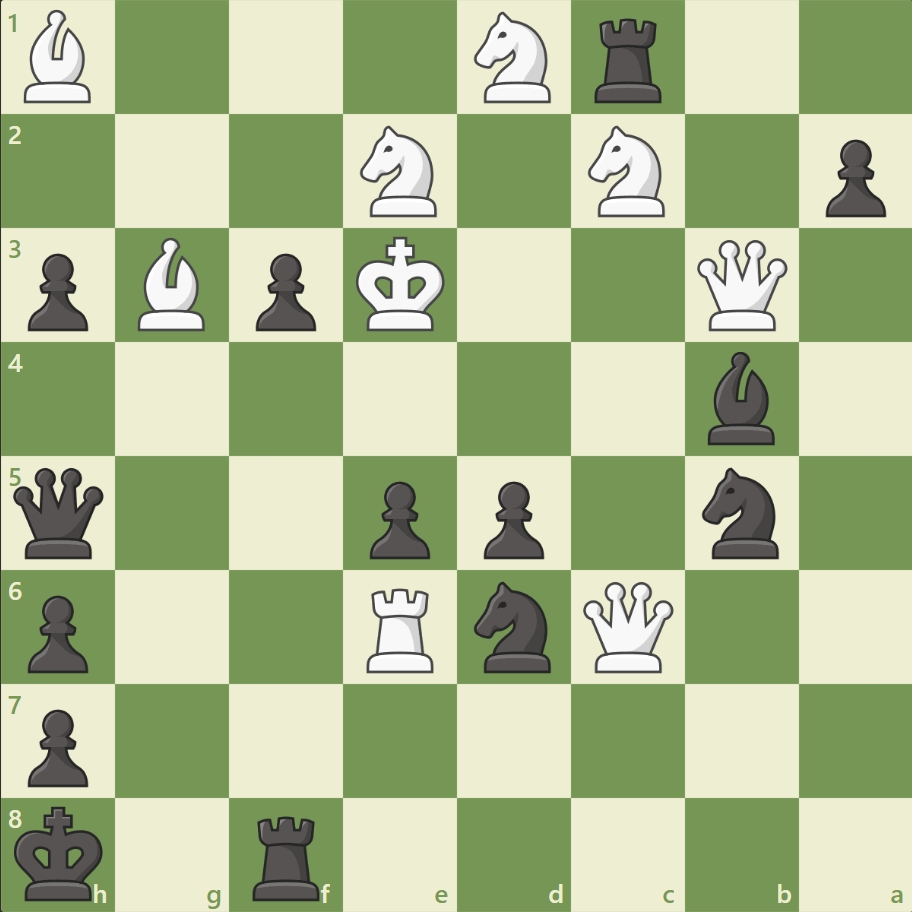B: (131, 233, 215, 336), (17, 6, 101, 109)
K: (351, 231, 451, 339)
N: (351, 121, 449, 223), (465, 7, 562, 110), (579, 121, 676, 223)
Q: (578, 576, 677, 676), (691, 236, 790, 335)
R: (360, 579, 442, 676)
b: (698, 347, 782, 449)
k: (11, 798, 111, 906)
n: (692, 461, 789, 564), (465, 575, 562, 677)
p: (20, 700, 95, 791), (20, 586, 95, 677), (474, 473, 549, 564), (247, 246, 322, 337), (20, 246, 95, 337), (361, 473, 435, 564), (815, 132, 889, 223)
q: (10, 463, 109, 562)
r: (246, 806, 329, 904), (587, 12, 670, 109)
